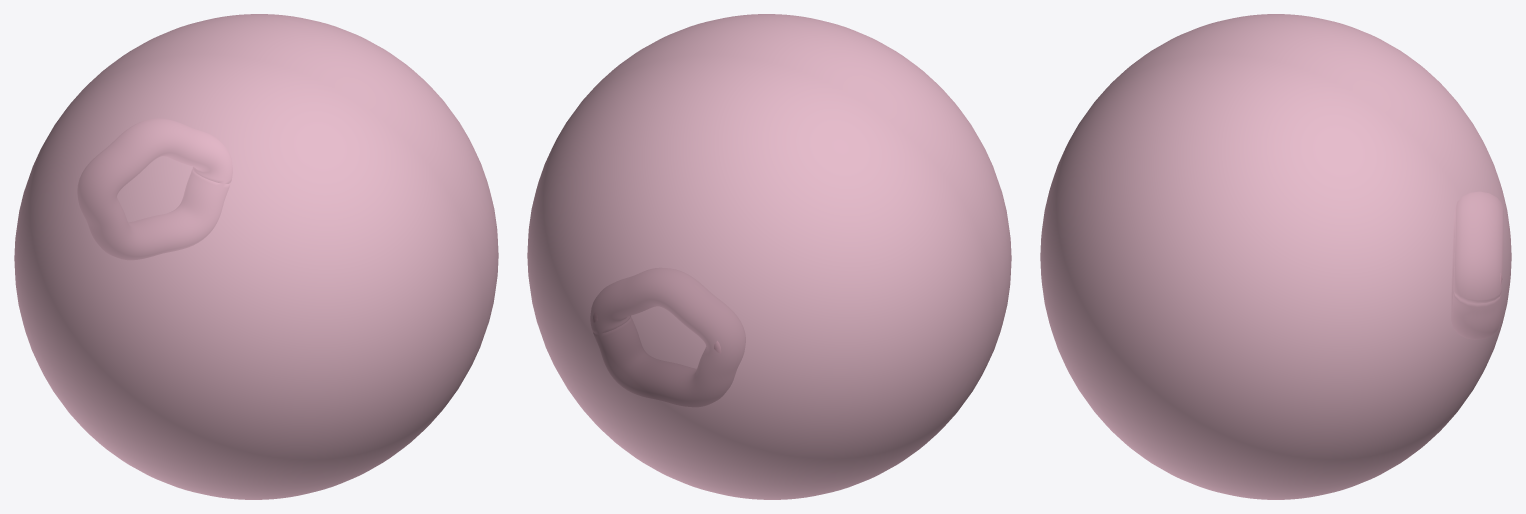
The model's file is bubble_gum.glb.
3 views of the same model, side by side, from view 1: azimuth 30°, elevation 25°; view 2: azimuth 150°, elevation 25°; view 3: azimuth 270°, elevation 25° (orthographic).
Parts seen in each view (by area): view 1: bubble_gum; view 2: bubble_gum; view 3: bubble_gum.
Part boxes in pixels (<box>): bubble_gum: <box>14,14,498,499</box>; bubble_gum: <box>527,14,1011,499</box>; bubble_gum: <box>1040,14,1511,499</box>.
Size of the model in its own units: 0.458 by 0.458 by 0.4443.
